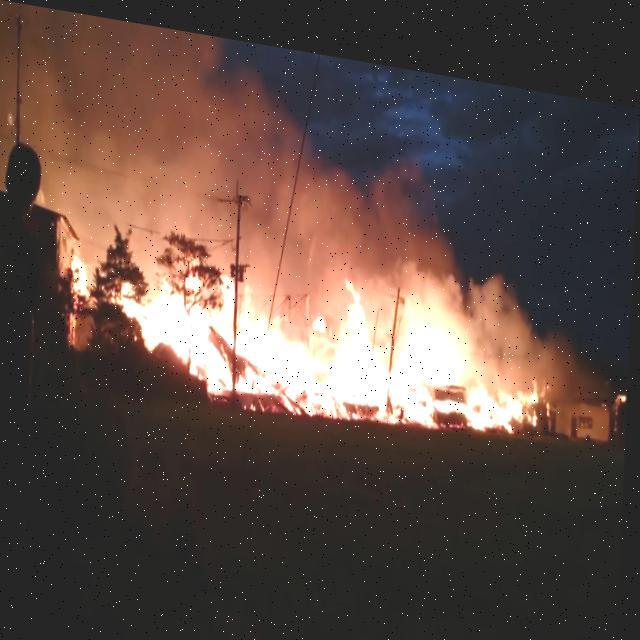Fire: (113, 241, 559, 435), (68, 248, 94, 296), (619, 368, 629, 382)
